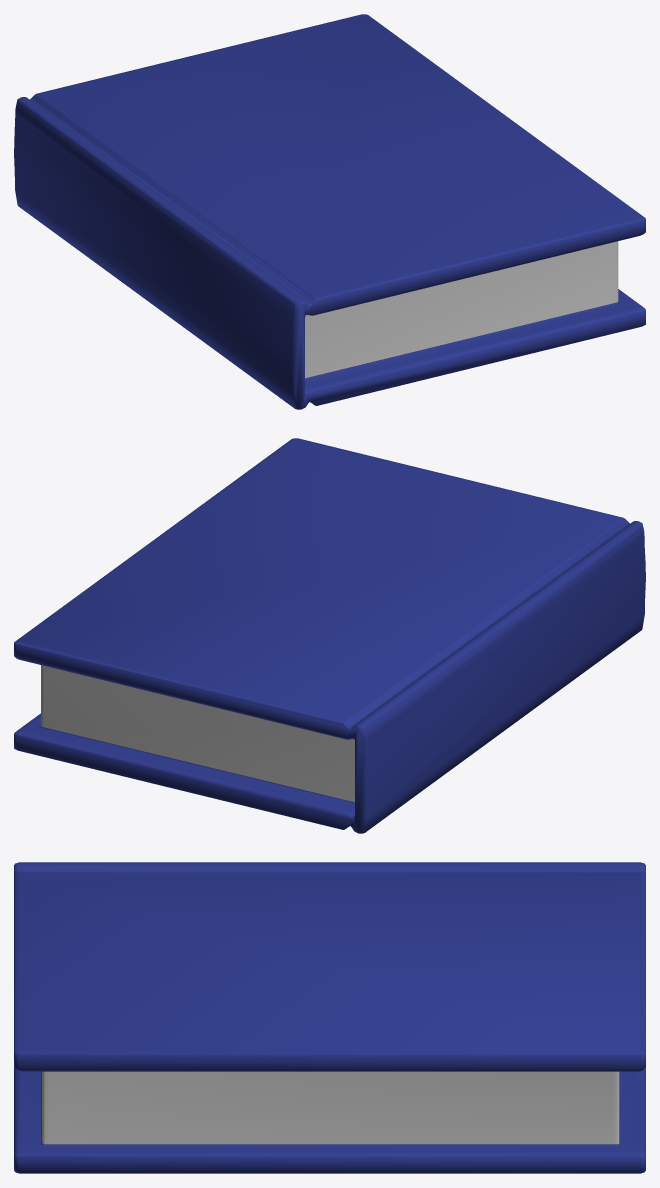
Rendered from book_close.fbx.
The picture shows the model from 3 angles, top to bottom: view 1: azimuth 30°, elevation 25°; view 2: azimuth 150°, elevation 25°; view 3: azimuth 270°, elevation 25°; orthographic projection. The views are drawn at different scales.
Visible parts, largest first — view 1: book02, book02.001; view 2: book02, book02.001; view 3: book02, book02.001.
Boxes of the visible parts, <box> form: book02: <box>14,14,645,409</box>; book02.001: <box>305,241,618,378</box>; book02: <box>14,438,645,833</box>; book02.001: <box>41,665,354,802</box>; book02: <box>14,862,645,1173</box>; book02.001: <box>42,1071,619,1144</box>.
Bounding box in the file's own units: 66.87 × 19.46 × 91.9.
